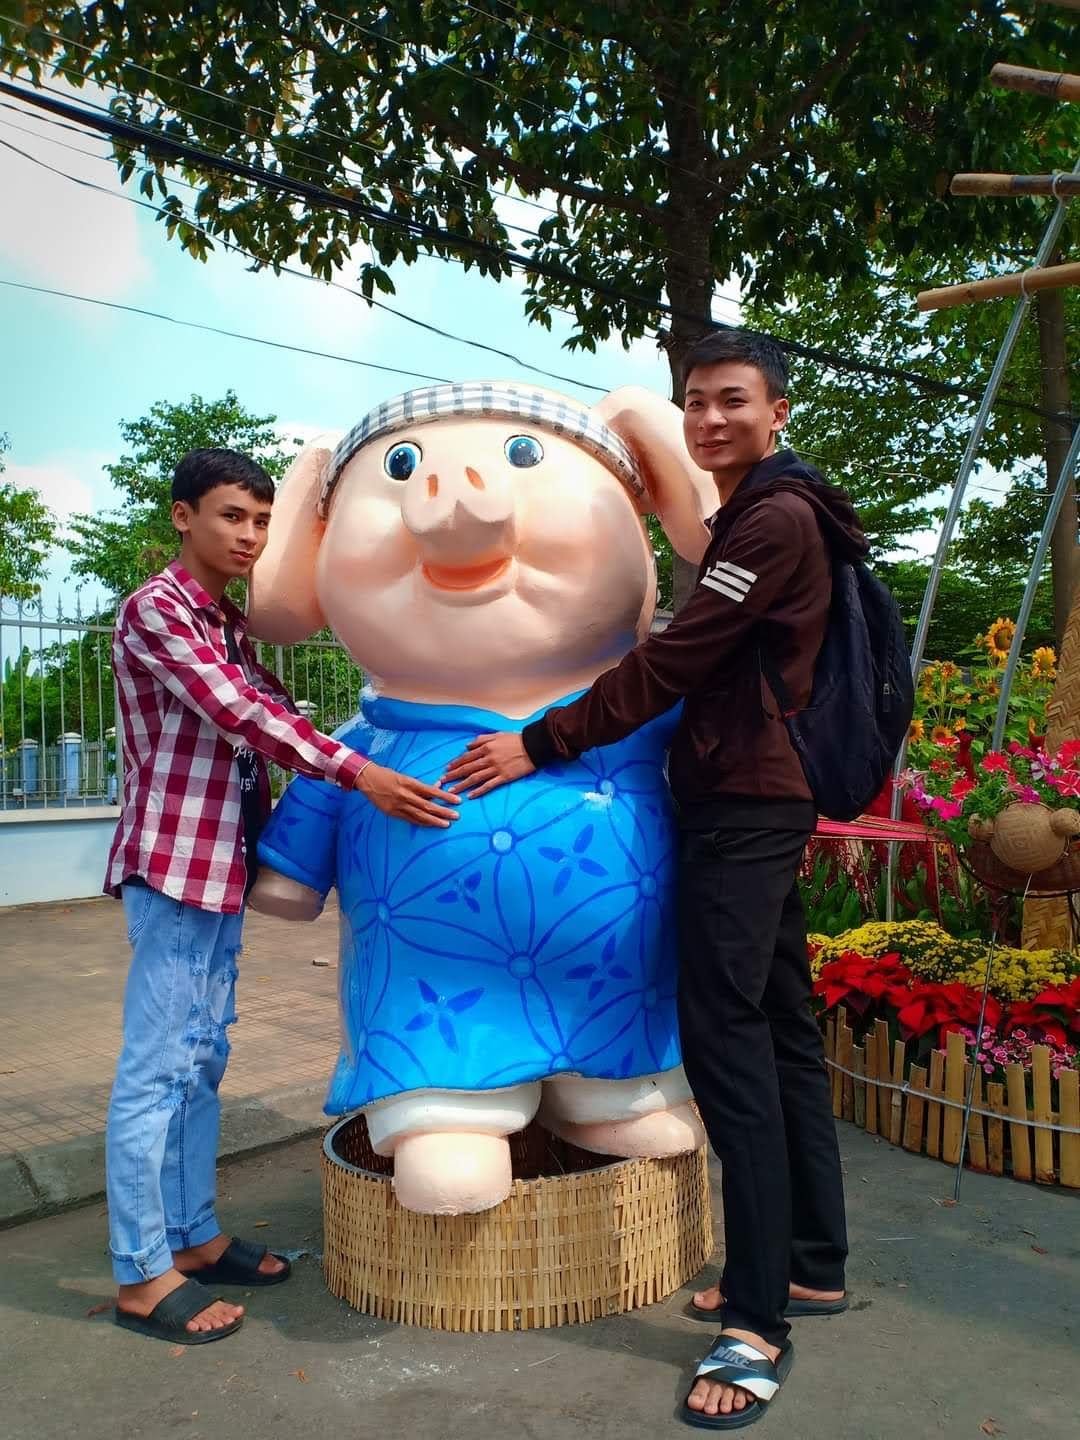face: (162, 424, 281, 587), (668, 323, 794, 469)
